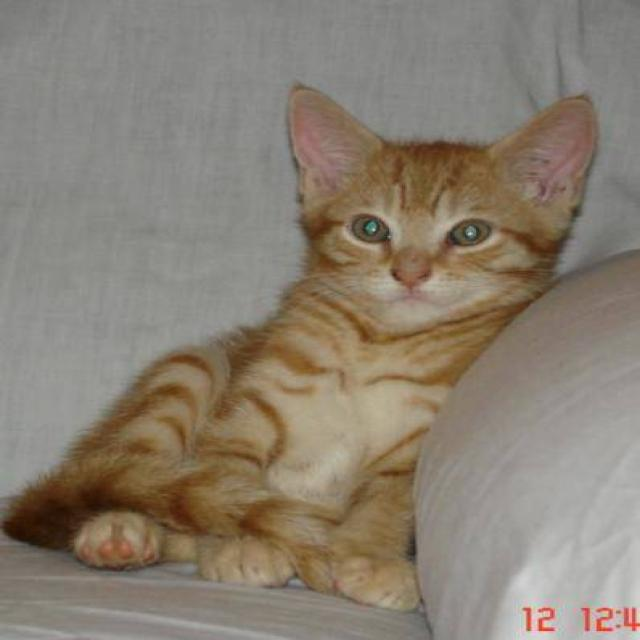Cat: (268, 77, 600, 336)
